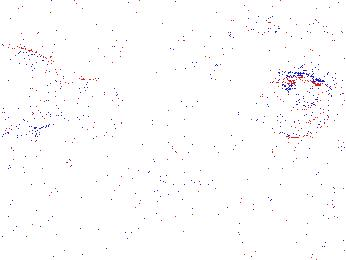moon jellyfish: (132, 46, 209, 123), (258, 70, 334, 139), (1, 48, 64, 129), (42, 78, 133, 124)
